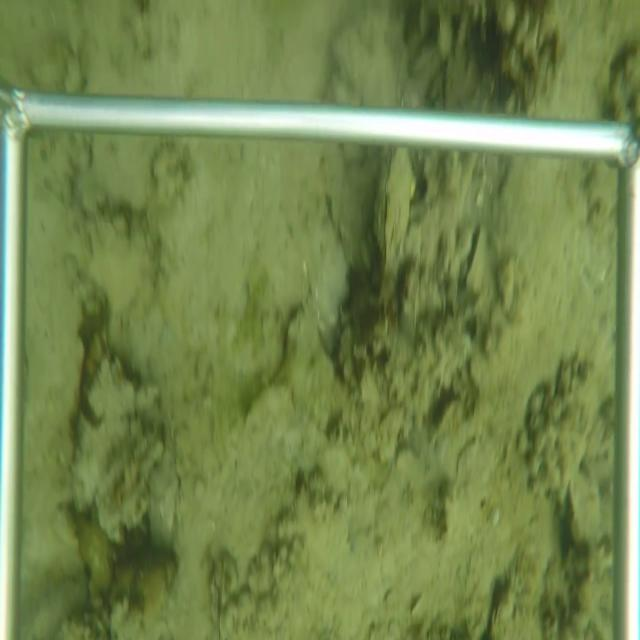Oyster-Closed: (371, 146, 416, 307)
Oyster-Open: (461, 223, 490, 295)
